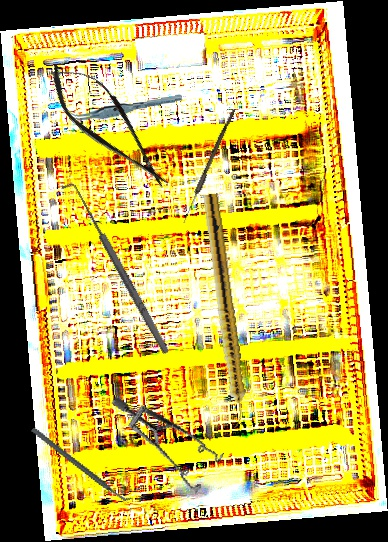Chopper: (30, 402, 134, 527)
Handpiece: (198, 193, 251, 429)
Hook Surgical: (60, 177, 173, 360)
Micro Scissor: (34, 47, 185, 204)
Speculum: (109, 370, 234, 510)
Surgical Spoon: (181, 107, 236, 225)
Tissue Forceps: (67, 94, 184, 122)
